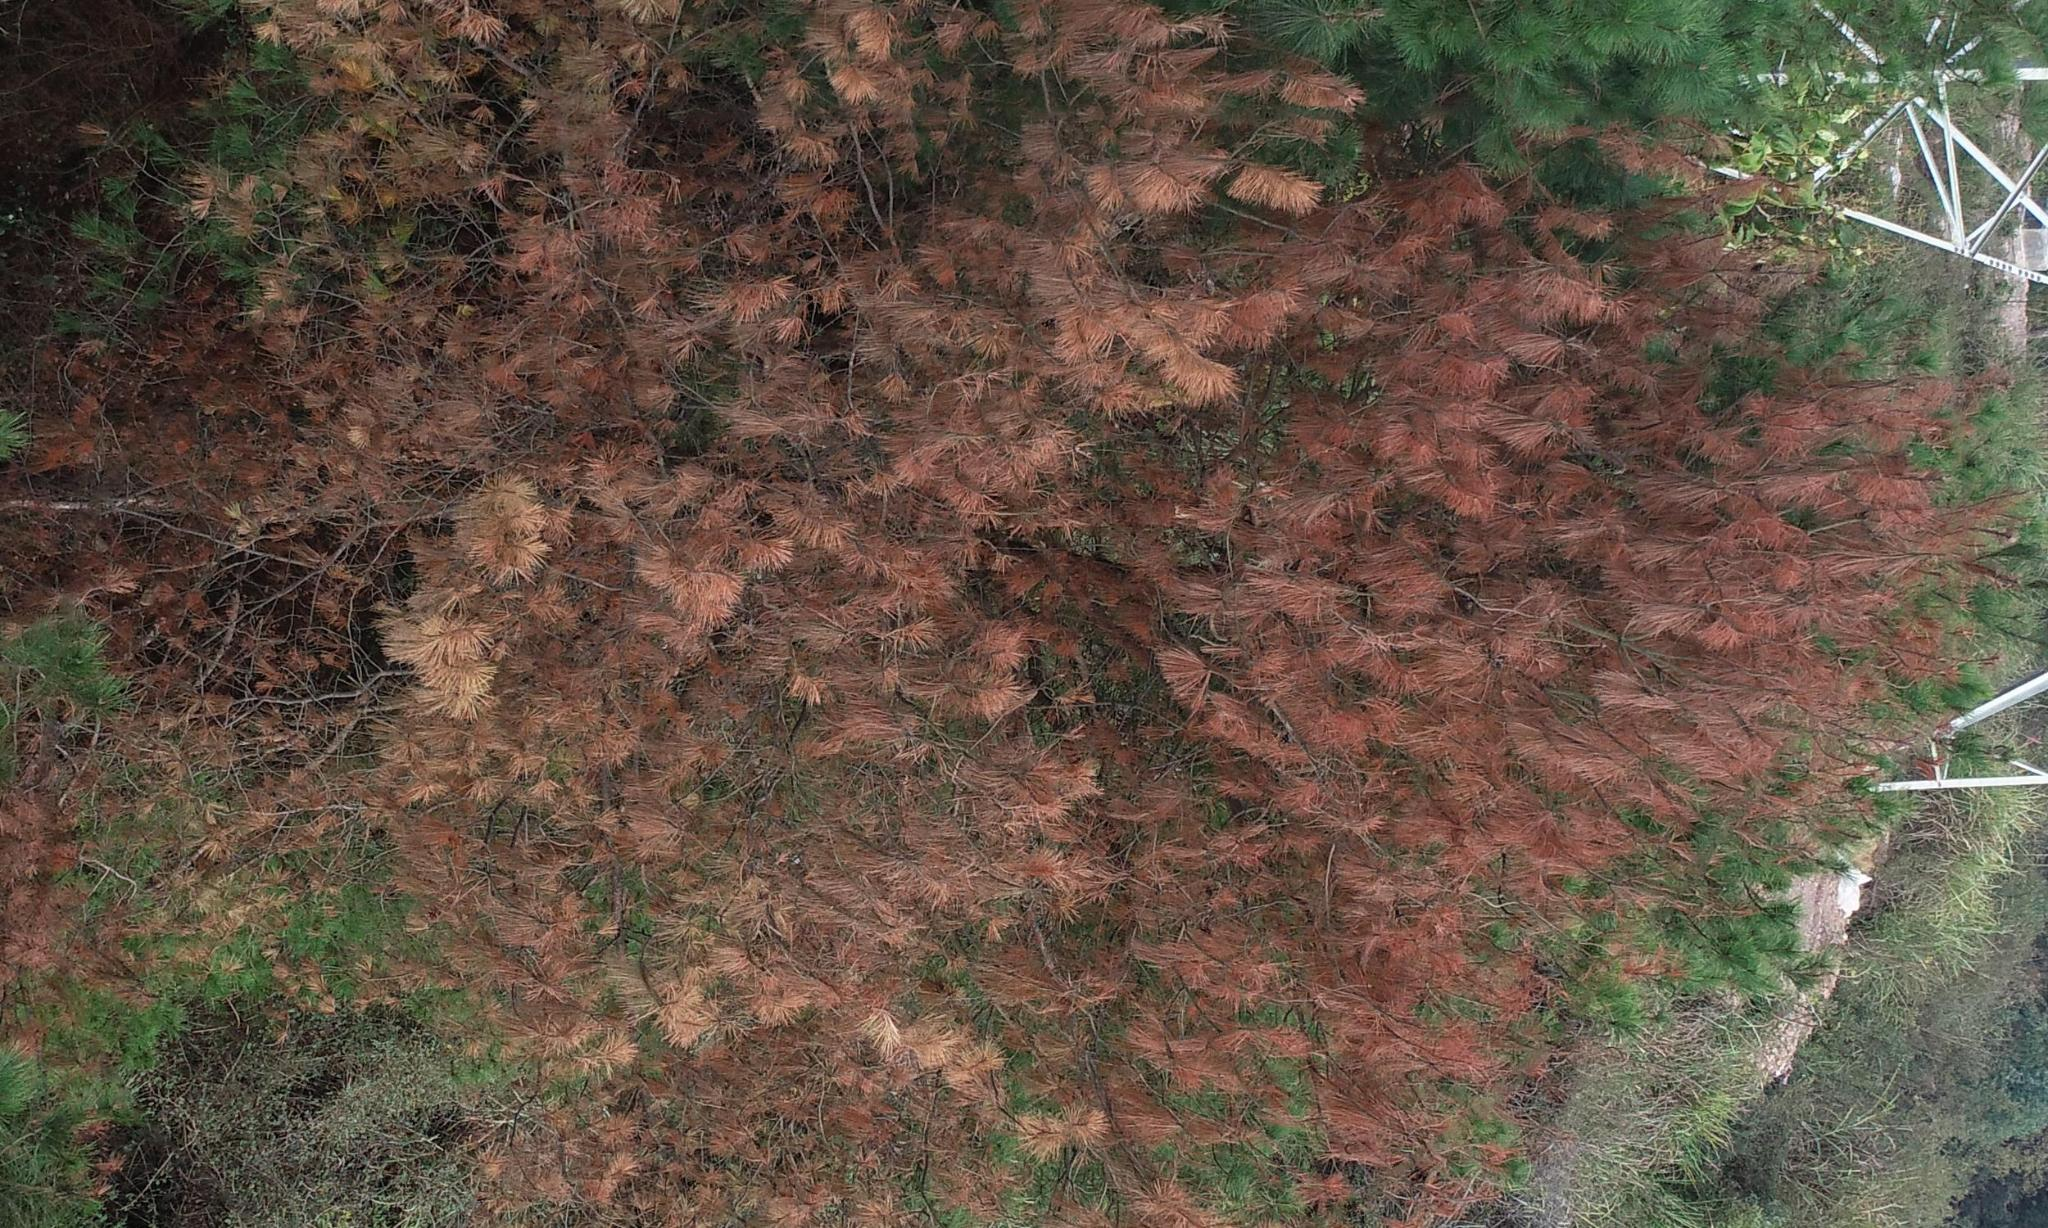heavy: (38, 15, 1928, 1184)
